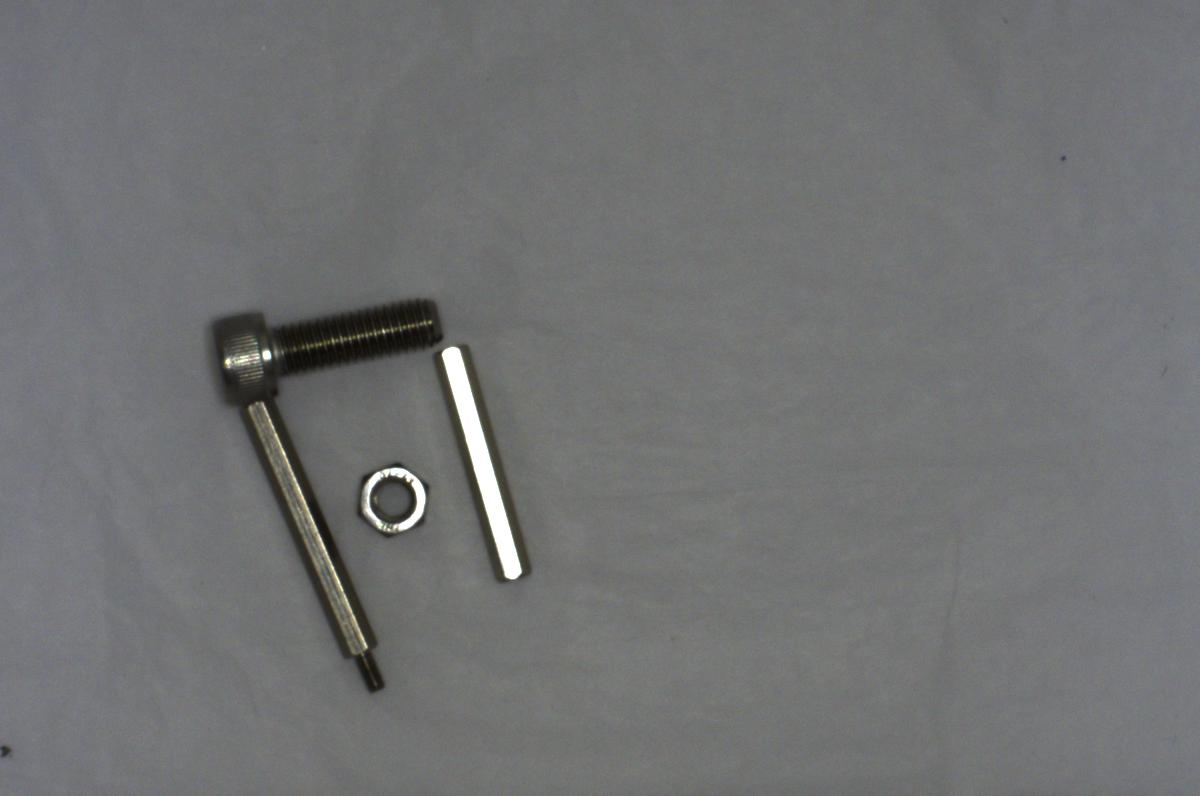Double hexagonal column: (433, 341, 527, 585)
Hexagon nut: (352, 458, 433, 541)
Hexagon screw: (207, 287, 454, 403)
Hexagonal steel column: (238, 394, 382, 695)
